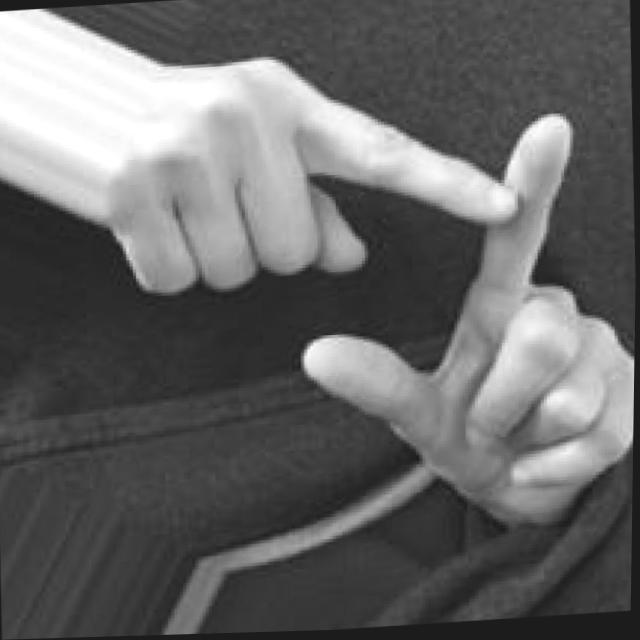J: (96, 23, 639, 559)
